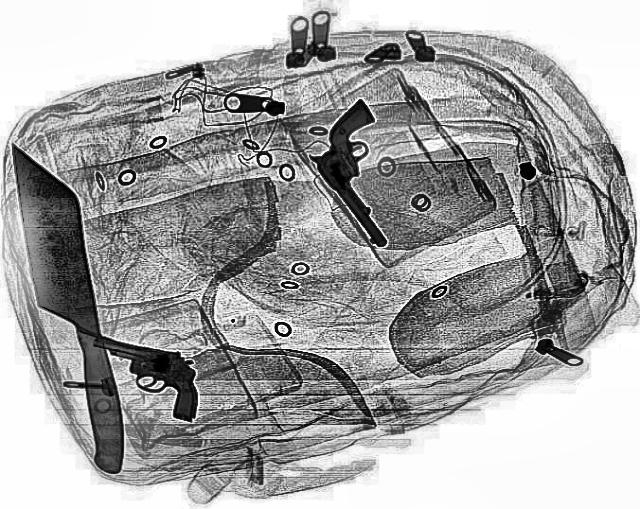Gun: (286, 98, 444, 249), (70, 332, 218, 422)
Knife: (1, 137, 138, 477)
